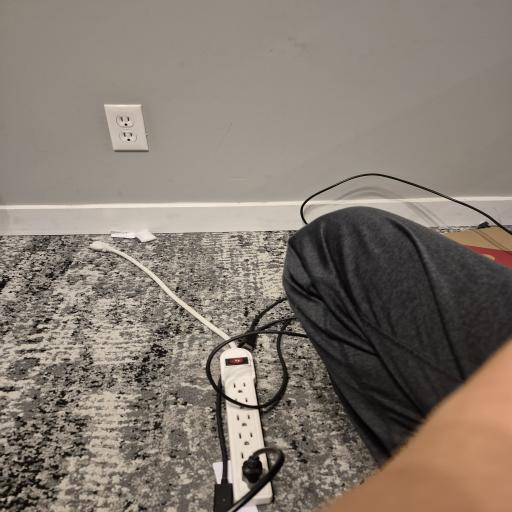outlet: (106, 105, 145, 153)
